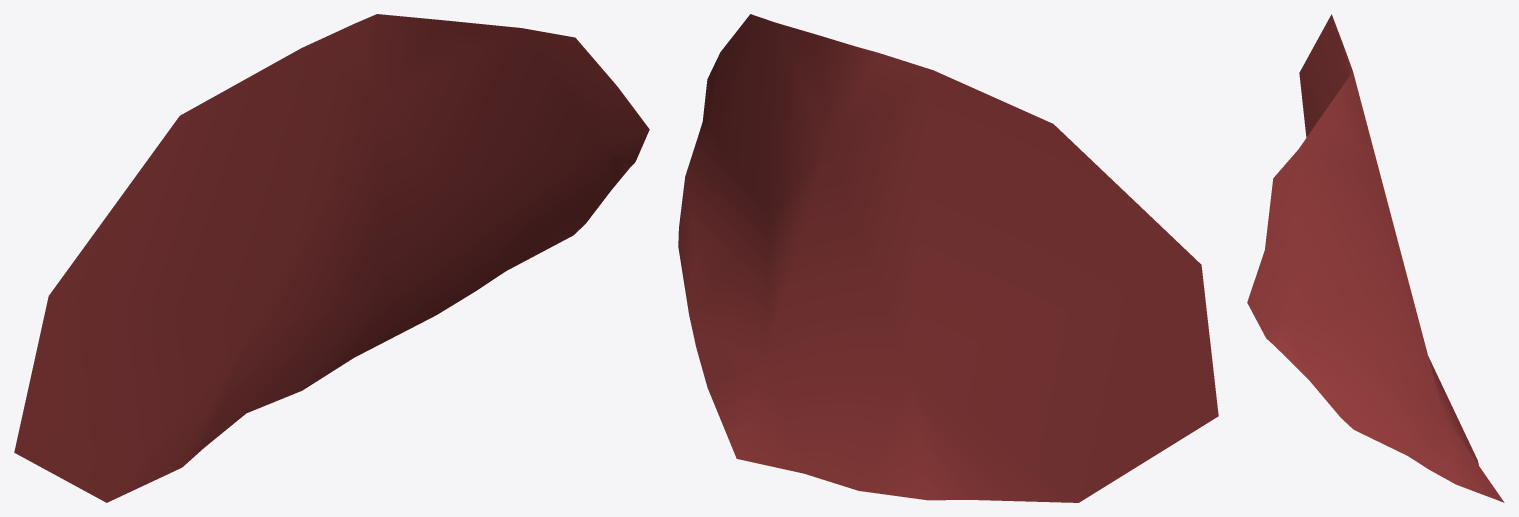
The model's file is plantaris-muscle-ol.glb.
3 renders of one model, left to right at view 1: azimuth 30°, elevation 25°; view 2: azimuth 150°, elevation 25°; view 3: azimuth 270°, elevation 25°, orthographic. The views are drawn at different scales.
Visible parts, largest first — view 1: Plantaris muscle.ol; view 2: Plantaris muscle.ol; view 3: Plantaris muscle.ol.
Part boxes in pixels (left/top/right/bottom): Plantaris muscle.ol: left=14, top=14, right=649, bottom=502; Plantaris muscle.ol: left=678, top=14, right=1218, bottom=502; Plantaris muscle.ol: left=1247, top=14, right=1504, bottom=502.
Bounding box in the file's own units: 0.0171 × 0.0119 × 0.00649.
